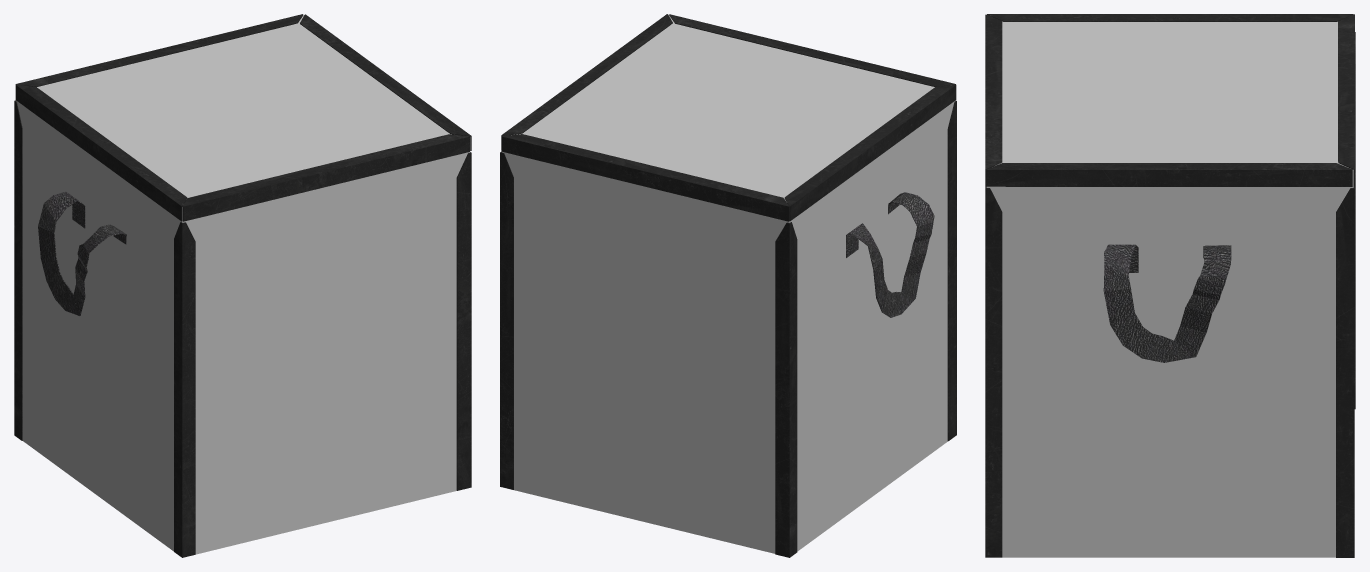
Rendered from Grpkassev2UdenGeom.fbx.
3 renders of one model, left to right at view 1: azimuth 30°, elevation 25°; view 2: azimuth 150°, elevation 25°; view 3: azimuth 270°, elevation 25°, orthographic. The views are drawn at different scales.
Parts seen in each view (by area): view 1: Kasse, Sidejern1, Topjern2, Sidejern2, Topjern1, Haandtag, Sidejern4, Topjern4, Topjern3; view 2: Kasse, Sidejern4, Topjern4, Topjern1, Sidejern3, Haandtag, Sidejern1, Topjern2, Topjern3; view 3: Kasse, Topjern3, Haandtag, Sidejern3, Sidejern2, Topjern1, Topjern2, Topjern4, Sidejern4.
Boxes of the visible parts, x1,y1,x2,y2 form: Kasse: (16, 15, 470, 554); Sidejern1: (174, 222, 195, 557); Topjern2: (182, 134, 469, 221); Sidejern2: (456, 152, 471, 490); Topjern1: (15, 84, 187, 221); Haandtag: (38, 191, 126, 315); Sidejern4: (14, 100, 22, 440); Topjern4: (15, 14, 303, 86); Topjern3: (300, 14, 471, 150); Kasse: (502, 15, 955, 553); Sidejern4: (775, 222, 797, 557); Topjern4: (501, 134, 789, 221); Topjern1: (784, 84, 956, 221); Sidejern3: (500, 151, 513, 489); Haandtag: (846, 192, 934, 317); Sidejern1: (947, 100, 956, 441); Topjern2: (669, 14, 955, 86); Topjern3: (501, 14, 672, 150); Kasse: (986, 21, 1353, 557); Topjern3: (986, 163, 1352, 186); Haandtag: (1103, 244, 1231, 362); Sidejern3: (1336, 186, 1354, 557); Sidejern2: (985, 186, 1002, 557); Topjern1: (987, 14, 1353, 21); Topjern2: (985, 14, 1002, 185); Topjern4: (1338, 14, 1354, 185); Sidejern4: (1353, 32, 1355, 409).
Size of the model in its own units: 64.67 by 60.17 by 52.05.
